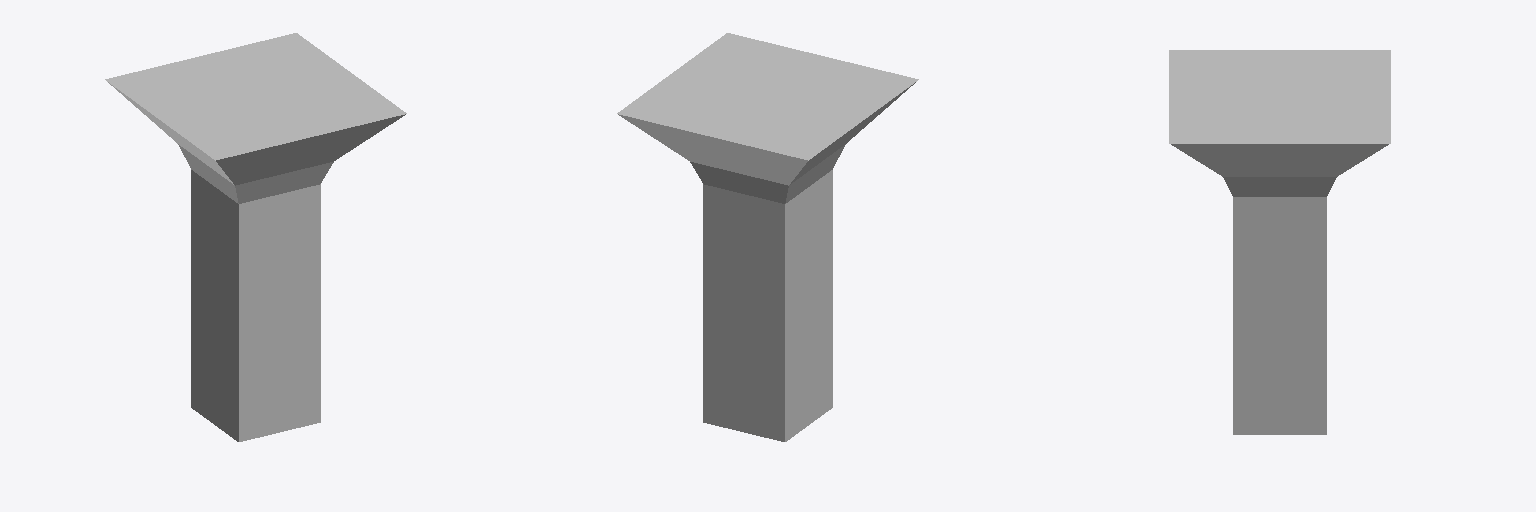
File: Pillar.obj
3 renders of one model, left to right at view 1: azimuth 30°, elevation 25°; view 2: azimuth 150°, elevation 25°; view 3: azimuth 270°, elevation 25°, orthographic.
Visible parts, largest first — view 1: Plane.131_Plane.035; view 2: Plane.131_Plane.035; view 3: Plane.131_Plane.035.
Boxes of the visible parts, box(x1,y1,x2,y2) form: Plane.131_Plane.035: box(105, 33, 406, 441); Plane.131_Plane.035: box(617, 33, 918, 441); Plane.131_Plane.035: box(1169, 50, 1390, 434).
Bounding box in the file's own units: 2.65 × 4.2 × 2.65.